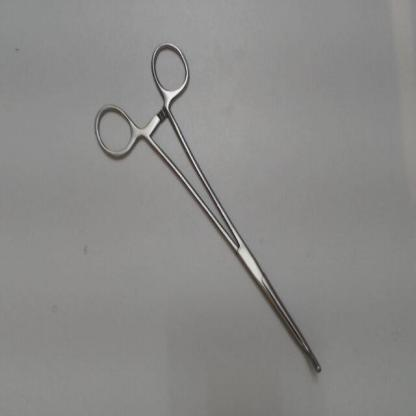Lahey Forceps: (90, 31, 332, 388)
